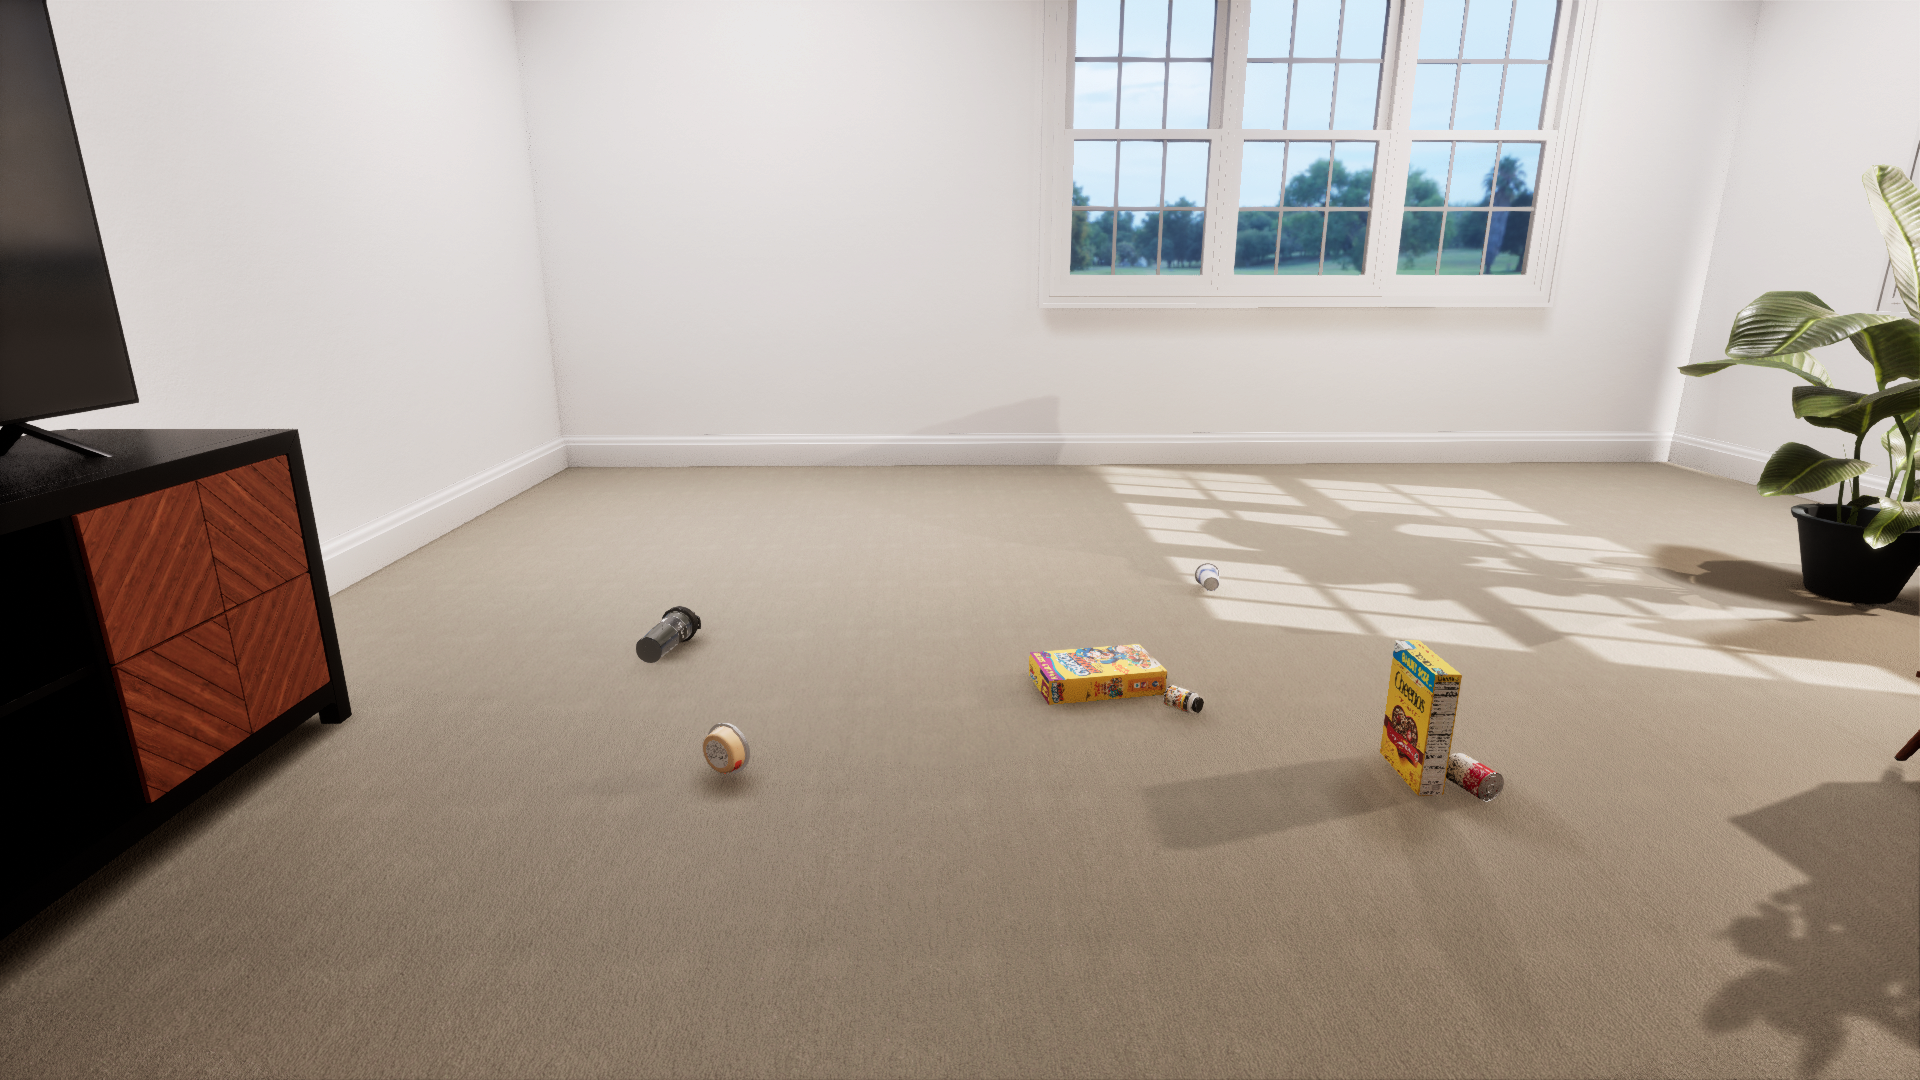cheerios: (735, 0, 1098, 584)
soup: (568, 500, 757, 720)
